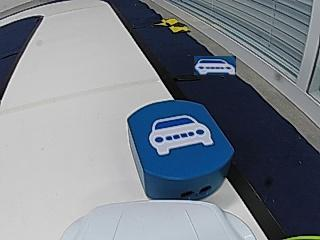safety: (148, 114, 215, 154)
